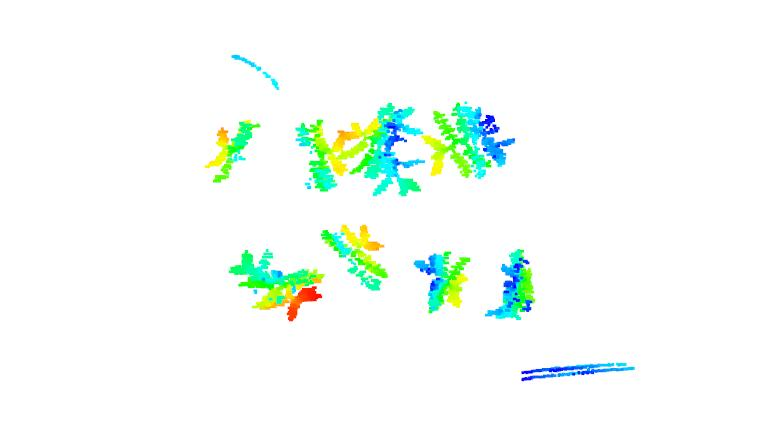chickpea: (227, 247, 329, 323), (422, 99, 513, 181), (354, 102, 425, 195), (317, 220, 393, 294), (290, 116, 355, 190), (203, 118, 267, 183), (483, 248, 536, 323), (415, 248, 470, 313)
